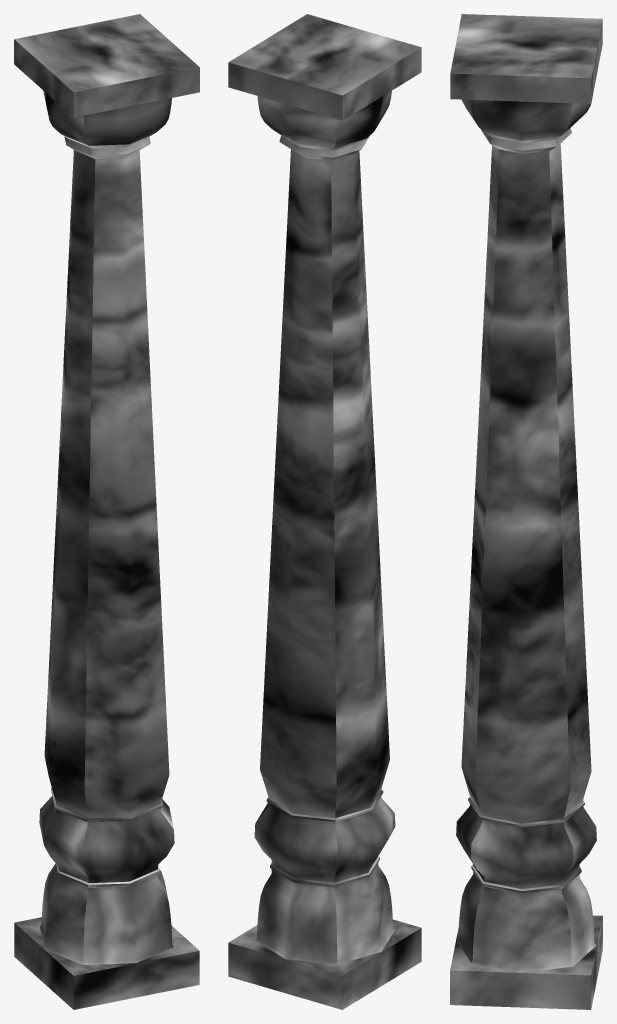
File: pillar.fbx
The picture shows the model from 3 angles, left to right: view 1: azimuth 30°, elevation 25°; view 2: azimuth 150°, elevation 25°; view 3: azimuth 270°, elevation 25°; orthographic projection.
Visible parts, largest first — view 1: pillar_low; view 2: pillar_low; view 3: pillar_low.
Boxes of the visible parts, x1,y1,x2,y2 form: pillar_low: (14,14,199,1009); pillar_low: (228,14,421,1009); pillar_low: (450,14,602,1009).
Bounding box in the file's own units: 0.2972 × 2 × 0.2972.
Materials: 1 (1 with a texture image).
